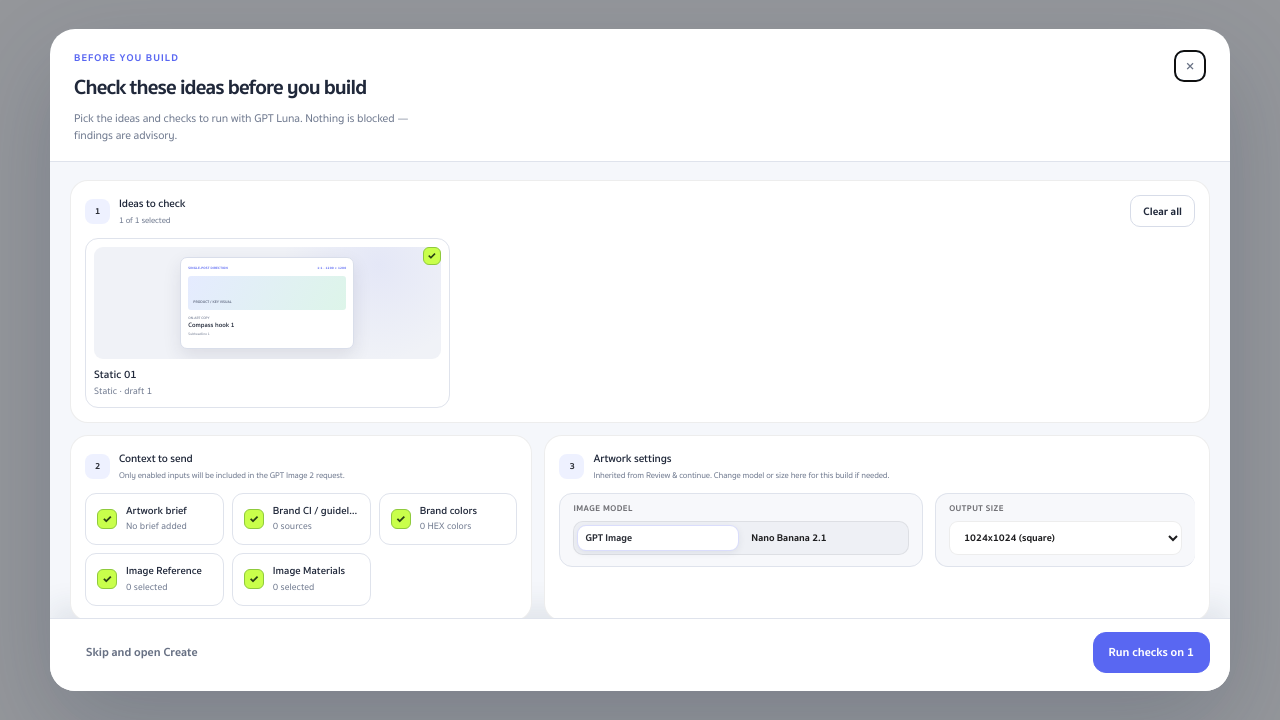
Test: keeps Run checks retryable after failure and never shows failed checks as clean
Click the button "Run checks on 1" at coordinates (1151, 653), box [1093,632,1210,673]
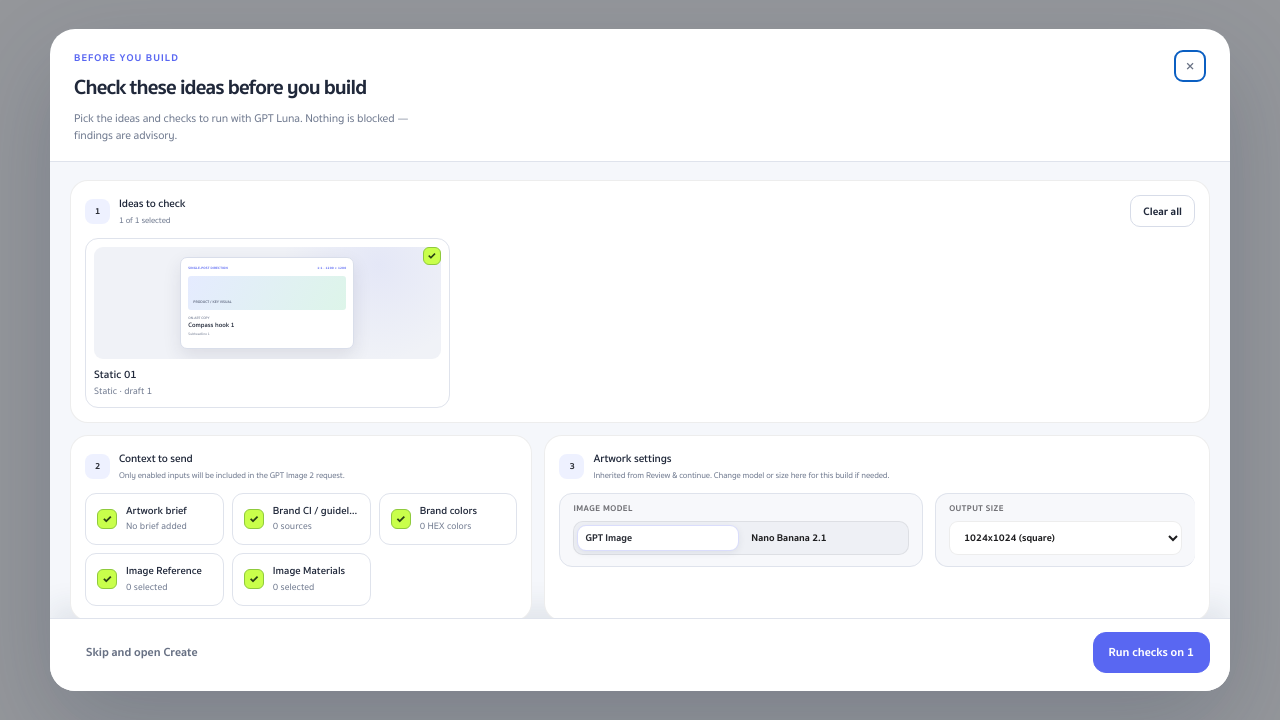
Expected: the text "Nothing flagged." is not shown
Click the button "Run checks on 1" at coordinates (1151, 653), box [1093,632,1210,673]
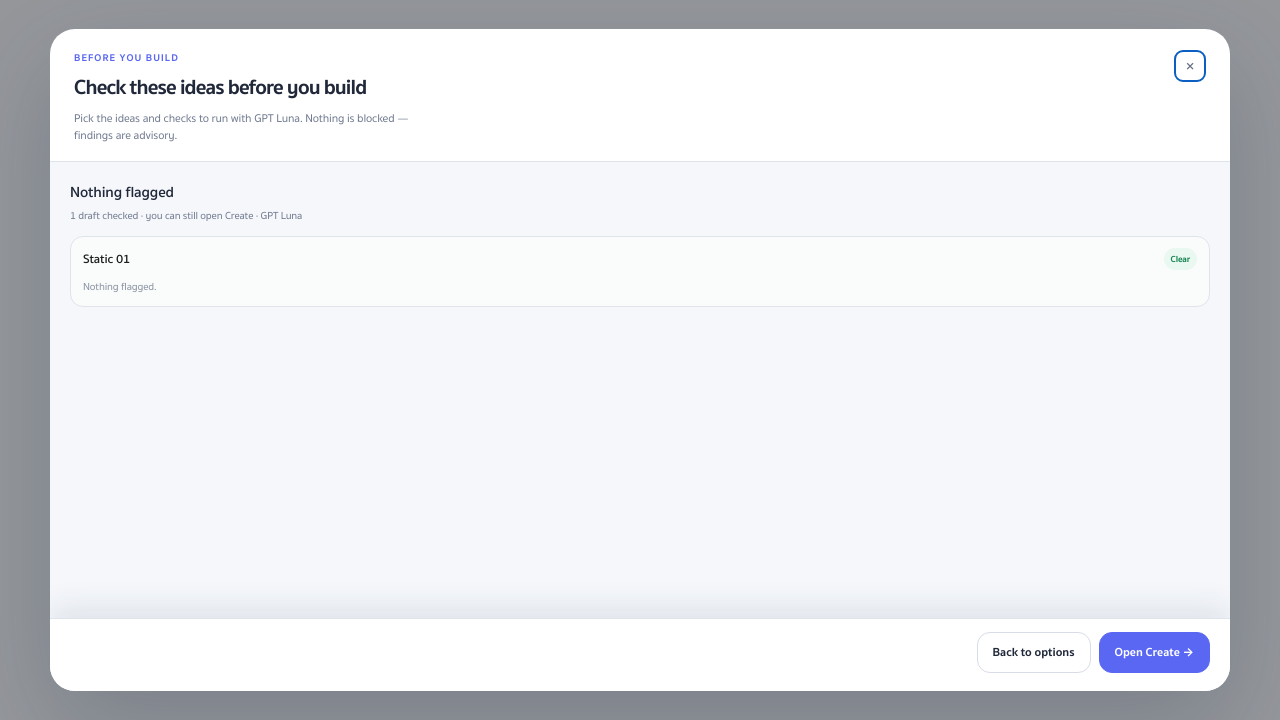
Expected: the button "Open Create →" is shown, [1098,632,1210,673]
